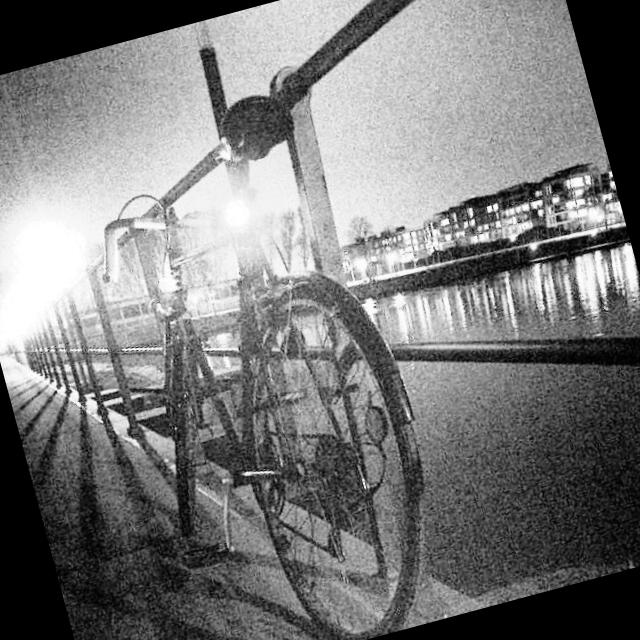Bicycle: (0, 58, 497, 640)
